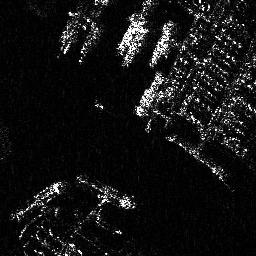ship: (10, 179, 69, 220), (74, 174, 136, 210), (149, 18, 177, 67), (134, 71, 163, 118), (121, 27, 147, 69), (78, 22, 102, 63)
